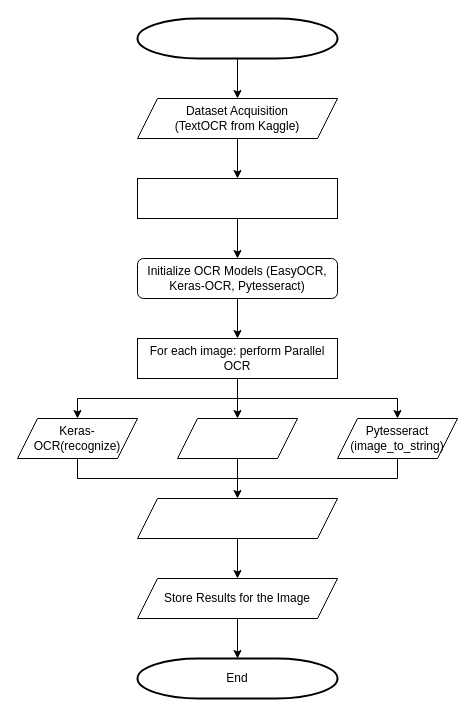
Image size: 475x716. Some labels were removed from this diagram. Here are the shapes that lost their labels. From the top down, the centre of each, then its label:
[237,38]: Start
[237,198]: Data Preparation and Sampling
[237,438]: EasyOCR (readtext)
[237,518]: Evaluate Accuracy (Levenshtein Ratio vs Ground Truth)
